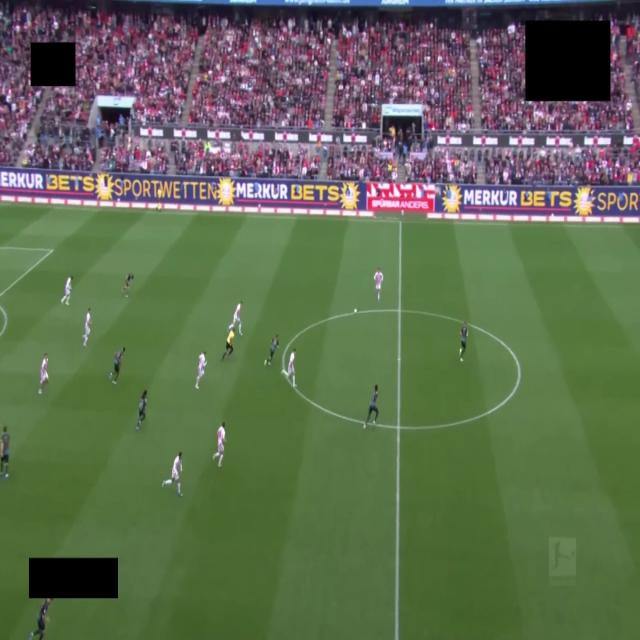ball: (354, 308, 357, 313)
player: (29, 599, 52, 639), (162, 452, 182, 496), (212, 422, 226, 468), (364, 384, 378, 428), (110, 347, 125, 384), (0, 426, 9, 479), (228, 301, 242, 335), (283, 349, 295, 387), (195, 351, 207, 389), (137, 390, 147, 430), (265, 335, 278, 365), (39, 353, 48, 394), (61, 276, 72, 305), (122, 273, 134, 298), (374, 269, 383, 301), (460, 322, 467, 361), (83, 308, 90, 346)
referee: (221, 328, 234, 361)
